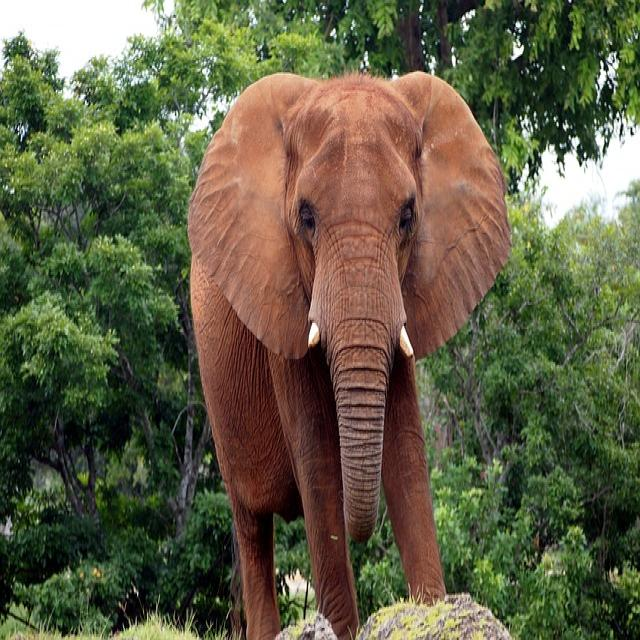elephant: (188, 72, 513, 640)
